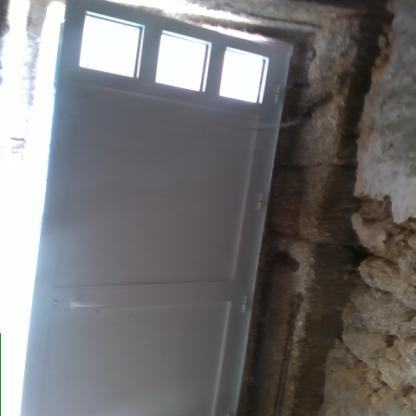closed: (34, 6, 299, 410)
